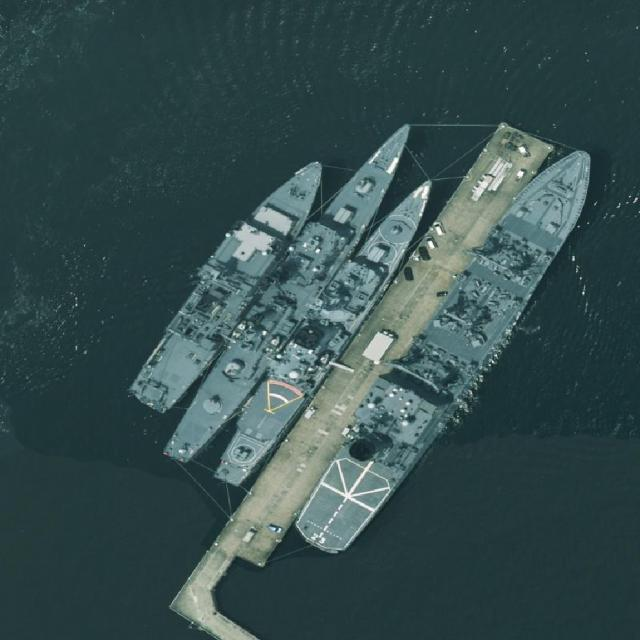Auxiliary Ships: (288, 129, 612, 566)
Destroyer: (204, 167, 449, 494)
Dock: (213, 111, 553, 575)
Frigate: (153, 110, 427, 478)
Other Warship: (118, 144, 339, 425)
